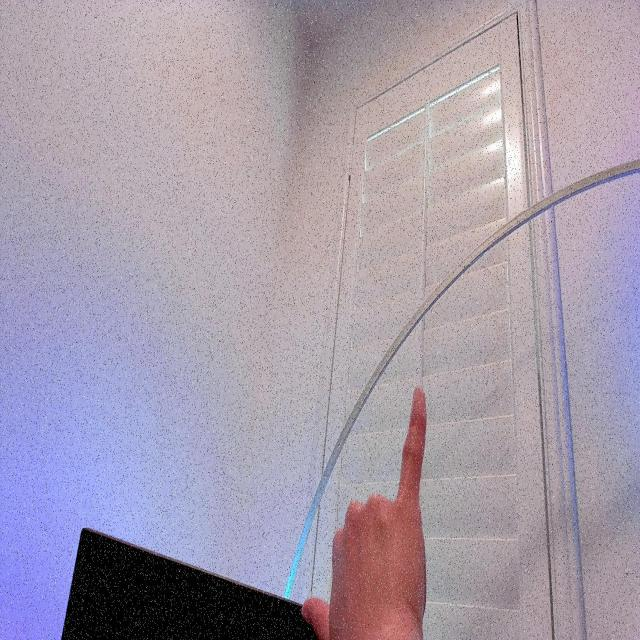Y: (298, 383, 431, 640)
